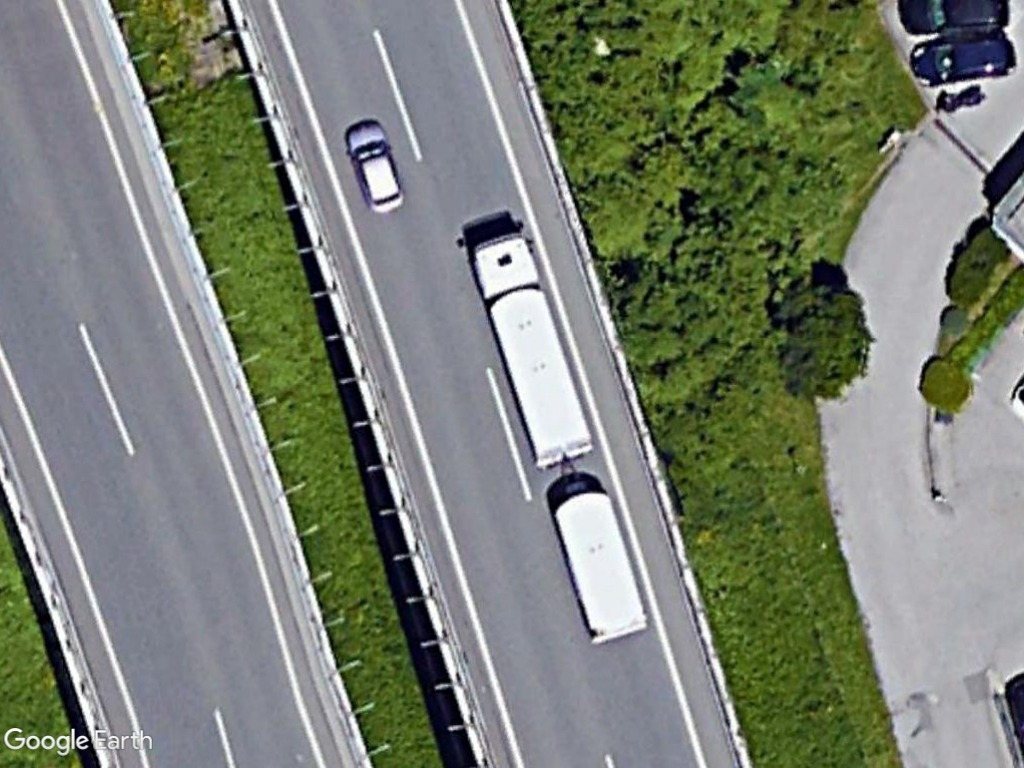car: (343, 117, 413, 221)
truck: (461, 225, 602, 477)
